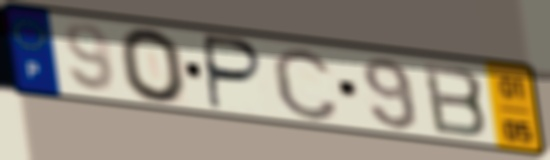9: (358, 55, 421, 132), (61, 22, 118, 95)
B: (419, 60, 492, 140)
C: (268, 44, 342, 123)
O: (115, 25, 190, 105)
P: (203, 32, 267, 114)
